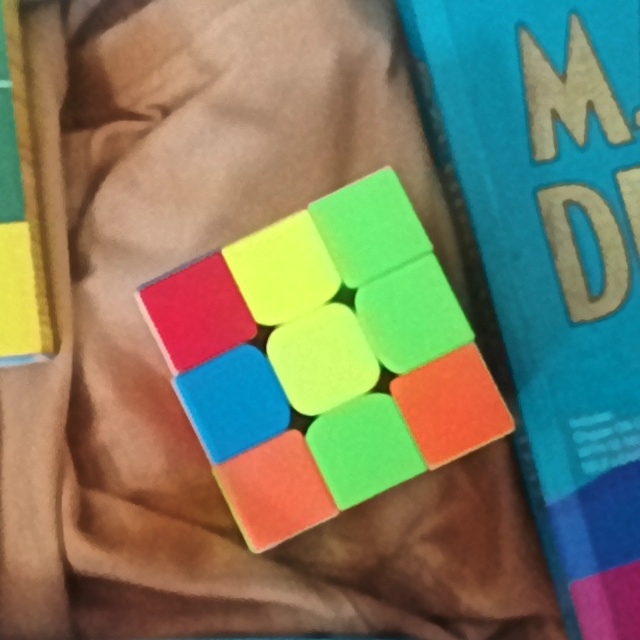tile: (285, 327, 363, 392), (417, 371, 486, 443), (379, 282, 447, 353), (242, 455, 314, 522), (329, 413, 401, 480), (204, 368, 270, 438), (251, 238, 319, 305), (164, 278, 231, 344), (333, 199, 403, 262)
